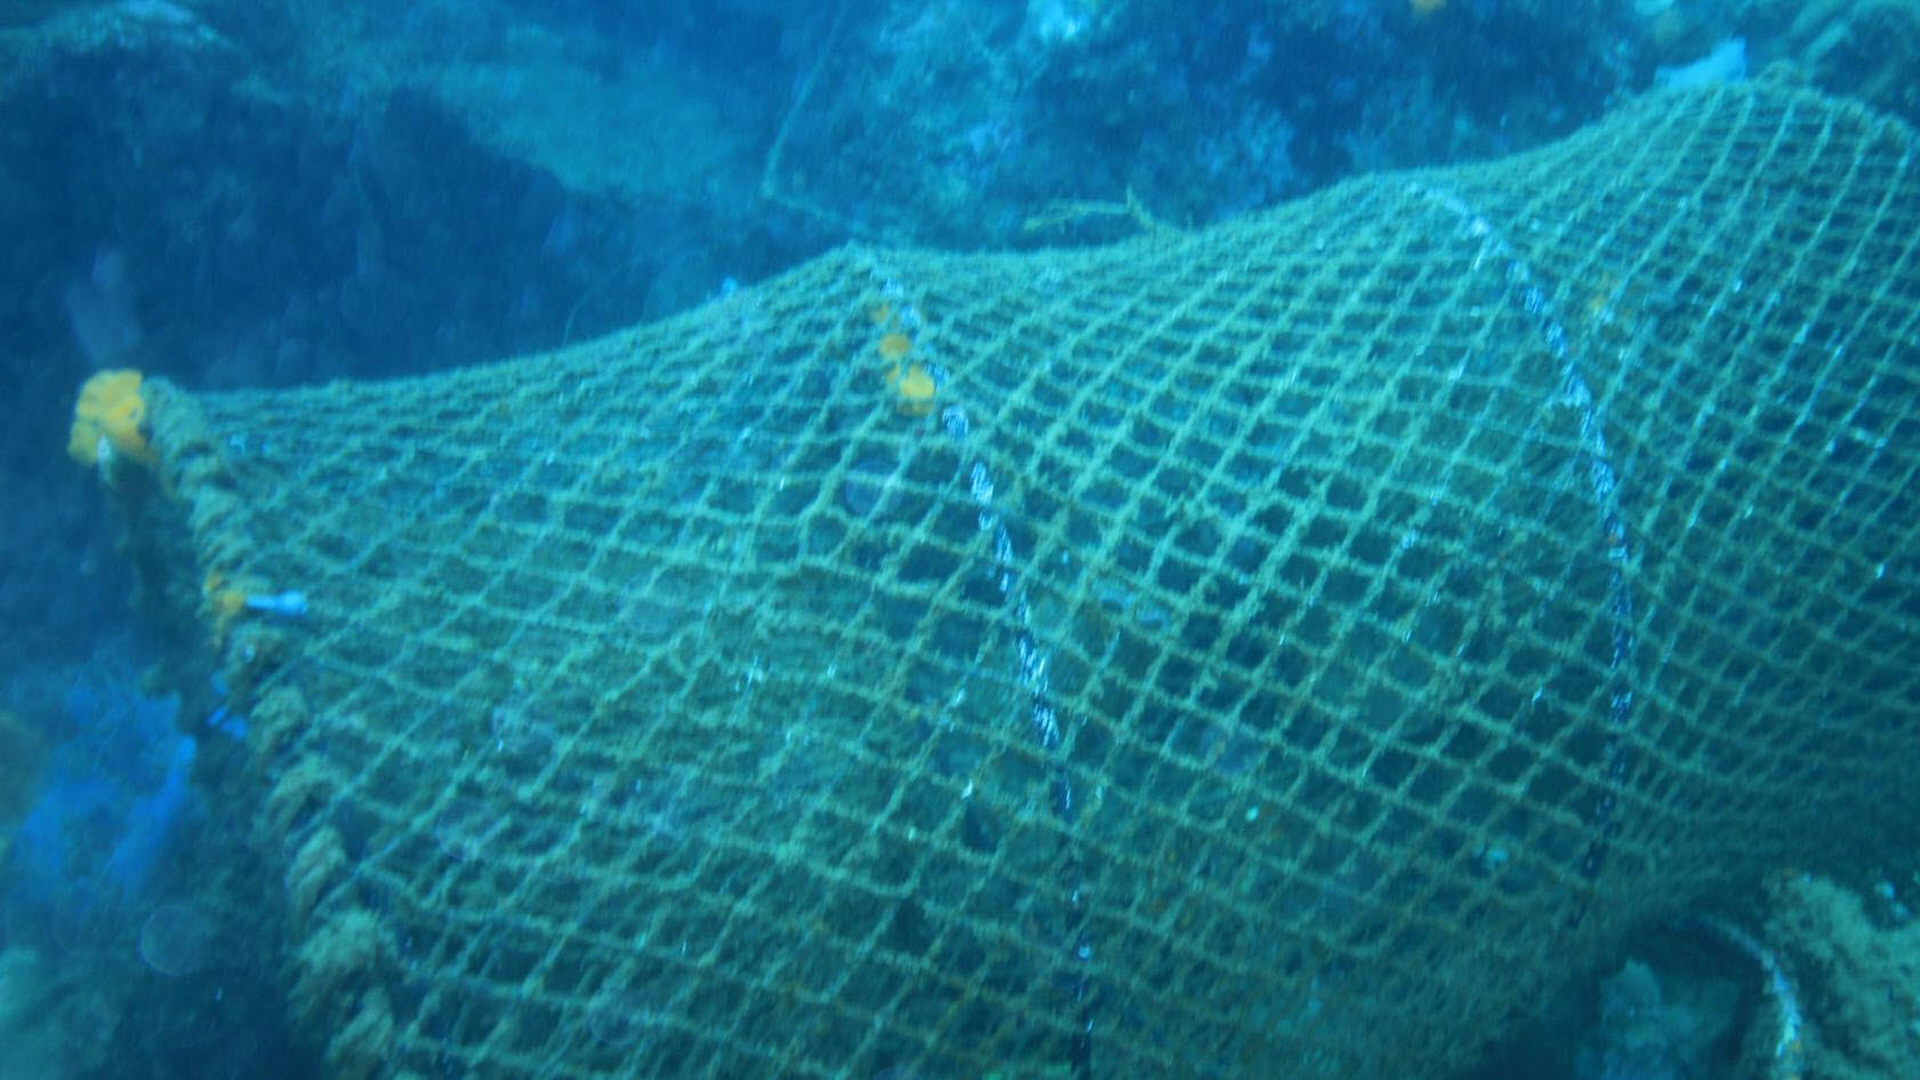spring fish trap: (94, 75, 1917, 1080)
